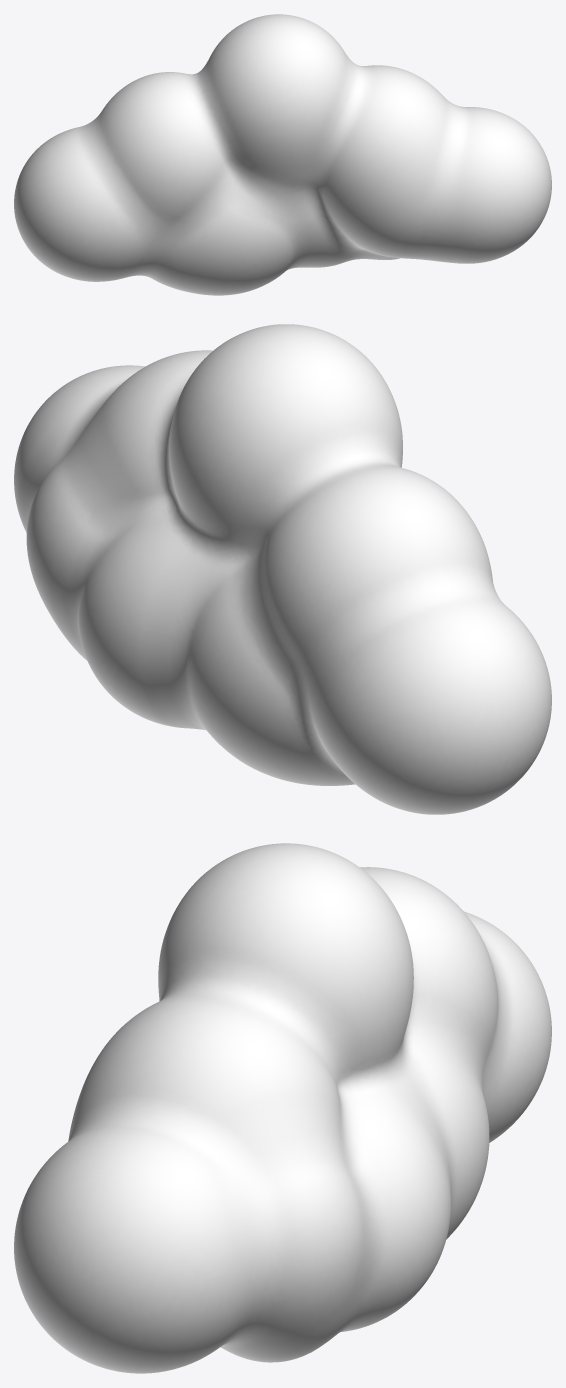
The model's file is cloud2.glb.
The picture shows the model from 3 angles, top to bottom: view 1: azimuth 30°, elevation 25°; view 2: azimuth 150°, elevation 25°; view 3: azimuth 270°, elevation 25°; orthographic projection. The views are drawn at different scales.
Visible parts, largest first — view 1: cloud; view 2: cloud; view 3: cloud.
Part boxes in pixels (x1,y1,x2,y2): cloud: (14,14,551,295); cloud: (14,324,551,814); cloud: (14,843,551,1373).
Size of the model in its own units: 242 by 146 by 161.
1 material, 1 textured.
